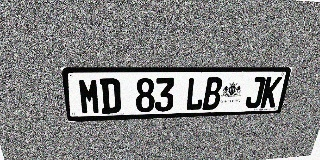3: (155, 78, 175, 112)
8: (136, 78, 155, 112)
B: (202, 77, 223, 110)
D: (99, 78, 121, 114)
J: (244, 77, 266, 108)
K: (260, 77, 282, 108)
L: (185, 77, 206, 111)
M: (77, 78, 101, 115)
